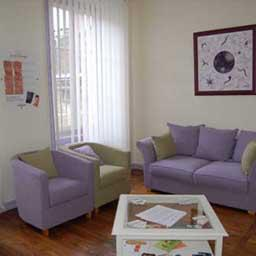Ventana: (50, 5, 116, 136)
